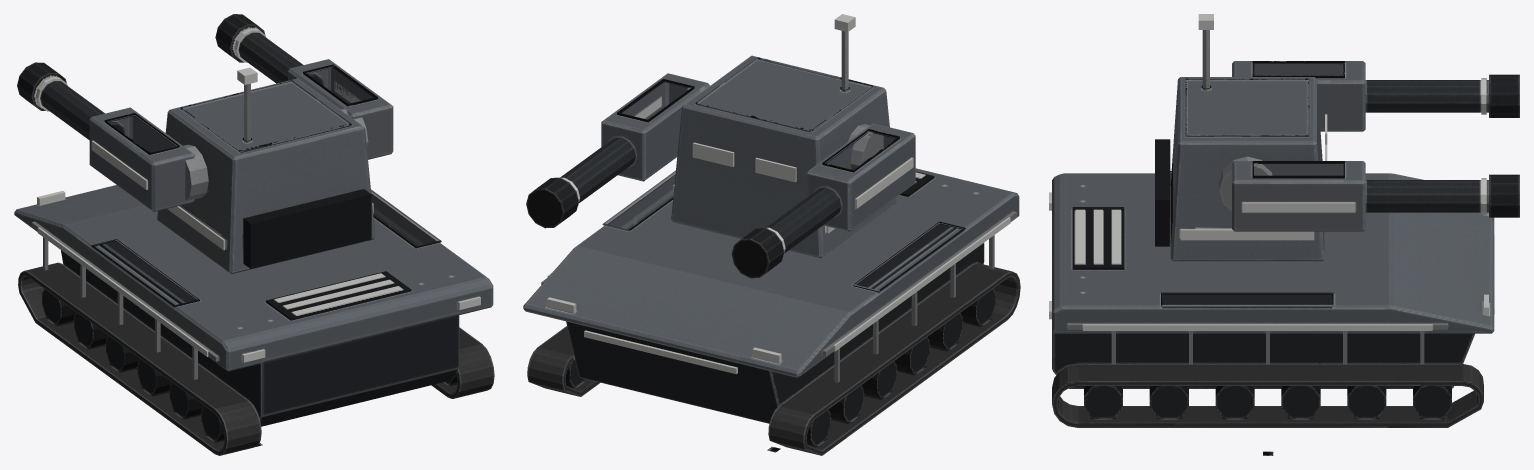
File: chs_juggernaut.fbx
3 views of the same model, side by side, from view 1: azimuth 30°, elevation 25°; view 2: azimuth 150°, elevation 25°; view 3: azimuth 270°, elevation 25° (orthographic). The views are drawn at different scales.
Visible parts, largest first — view 1: base_bar, turret_bar, armL_bar, armR_bar, base_glow_running_bar, turret_glow_running_bar, armL_glow_running_bar; view 2: base_bar, turret_bar, armL_bar, armR_bar, base_glow_running_bar, turret_glow_running_bar, armL_glow_running_bar, base_glow_head_bar; view 3: base_bar, turret_bar, armR_bar, armL_bar, base_glow_running_bar, turret_glow_running_bar, armR_glow_running_bar.
Boxes of the visible parts, x1,y1,x2,y2 form: base_bar: (14,185,494,455); turret_bar: (157,78,375,274); armL_bar: (17,62,194,211); armR_bar: (215,14,393,159); base_glow_running_bar: (37,227,480,362); turret_glow_running_bar: (167,67,373,250); armL_glow_running_bar: (91,140,147,189); base_bar: (523,168,1020,455); turret_bar: (671,31,897,258); armL_bar: (731,123,915,278); armR_bar: (526,73,709,228); base_glow_running_bar: (547,172,1010,374); turret_glow_running_bar: (673,14,855,233); armL_glow_running_bar: (855,157,913,208); base_glow_head_bar: (547,297,781,363); base_bar: (1052,171,1494,427); turret_bar: (1155,30,1324,261); armR_bar: (1232,161,1519,231); armL_bar: (1232,61,1519,131); base_glow_running_bar: (1049,192,1494,330); turret_glow_running_bar: (1180,14,1327,240); armR_glow_running_bar: (1242,202,1355,212).
Bounding box in the file's own units: 644 × 895 × 916.
2 materials, 2 textured.
